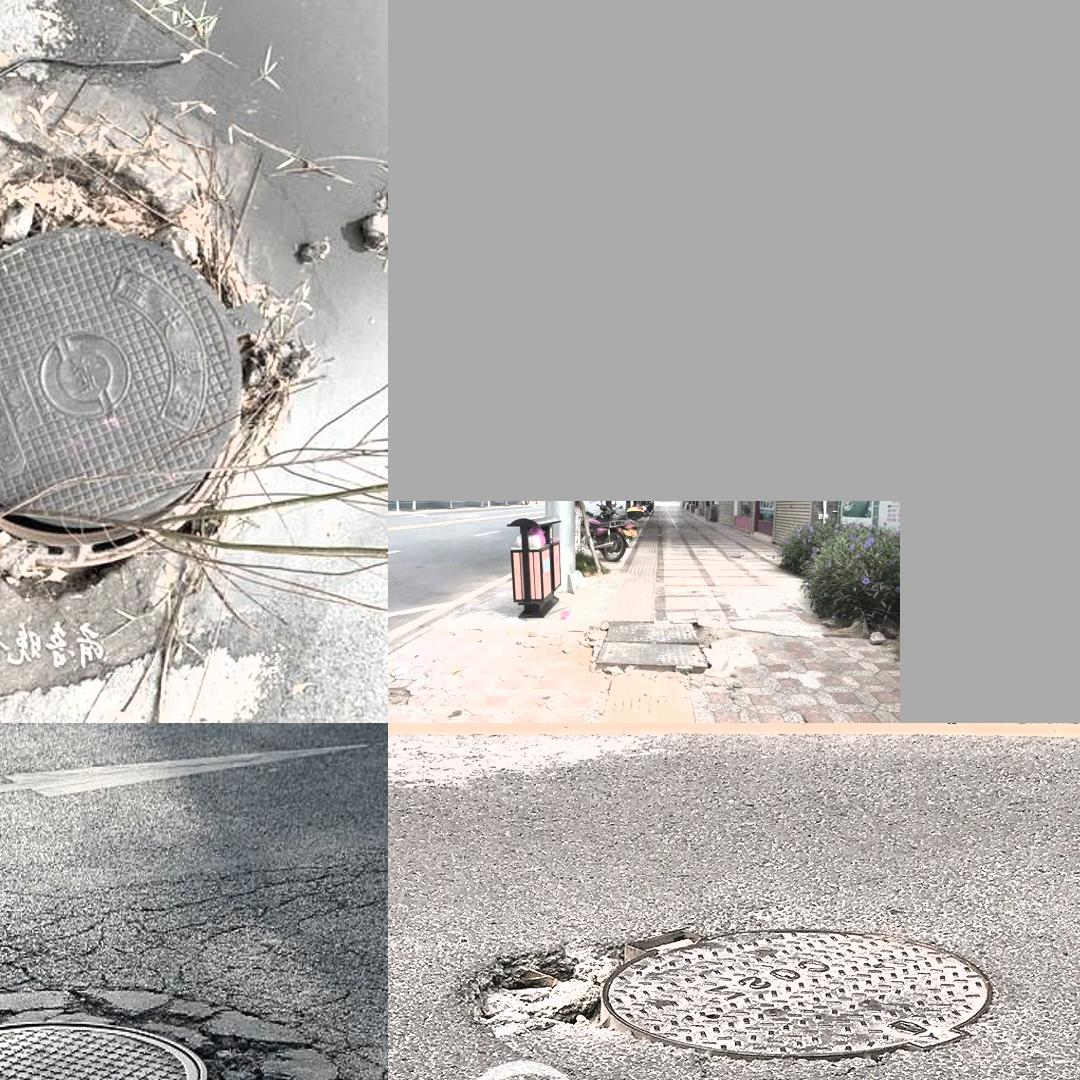circle: (0, 69, 327, 683), (444, 920, 1000, 1077), (0, 978, 290, 1080), (562, 607, 731, 697)
